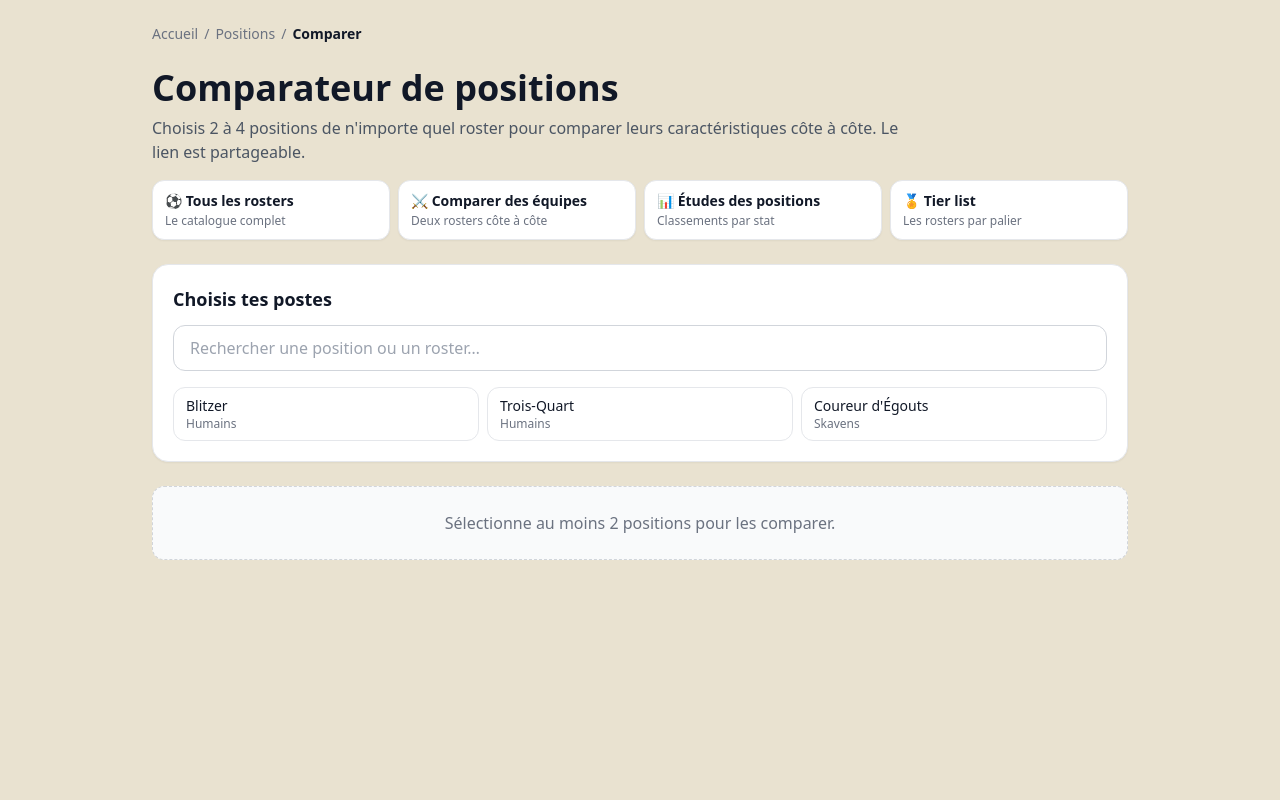
Test: PositionComparatorClient › permet de sélectionner des positions via le picker
Click the button with test id "picker-skaven_coureur_d_egouts" at (871, 406), box x1=801 y1=387 x2=1107 y2=441
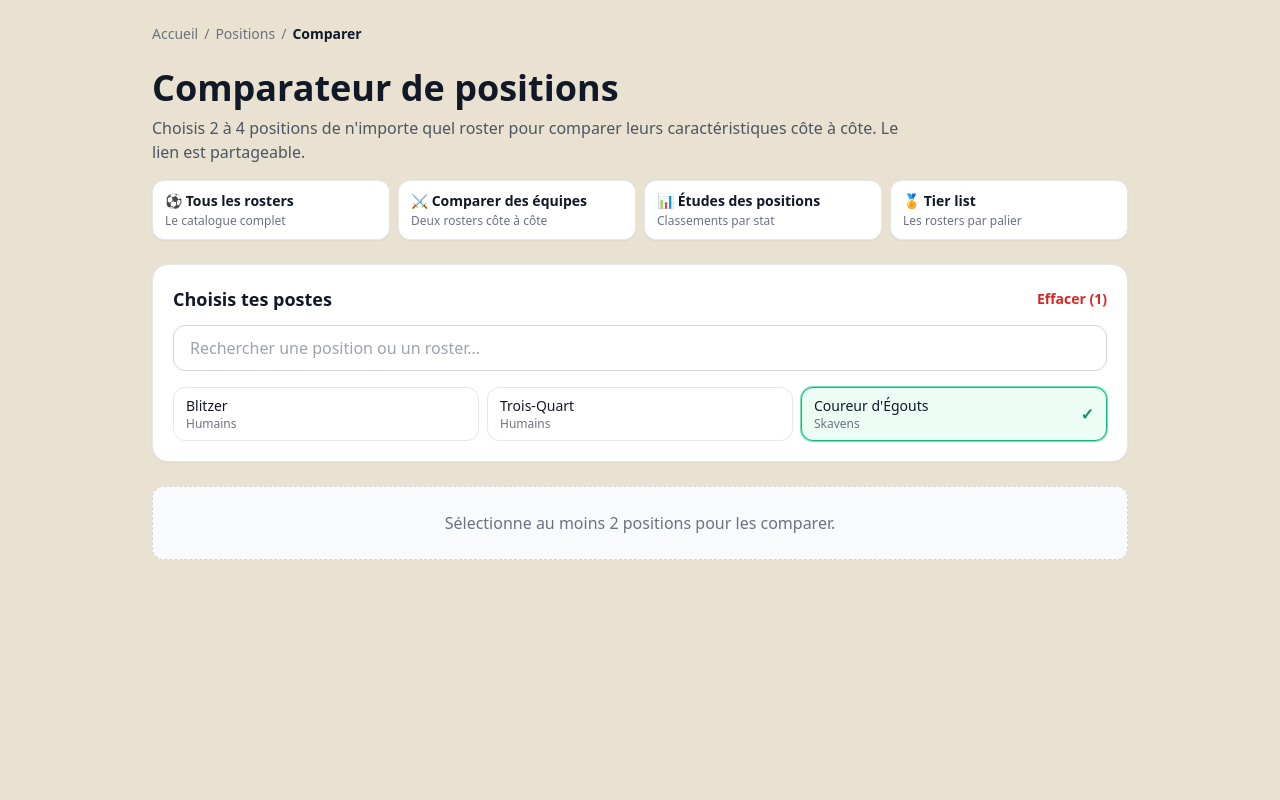
Click the button with test id "picker-human_blitzer" at (207, 406), box x1=173 y1=387 x2=479 y2=441
(page scrolled)
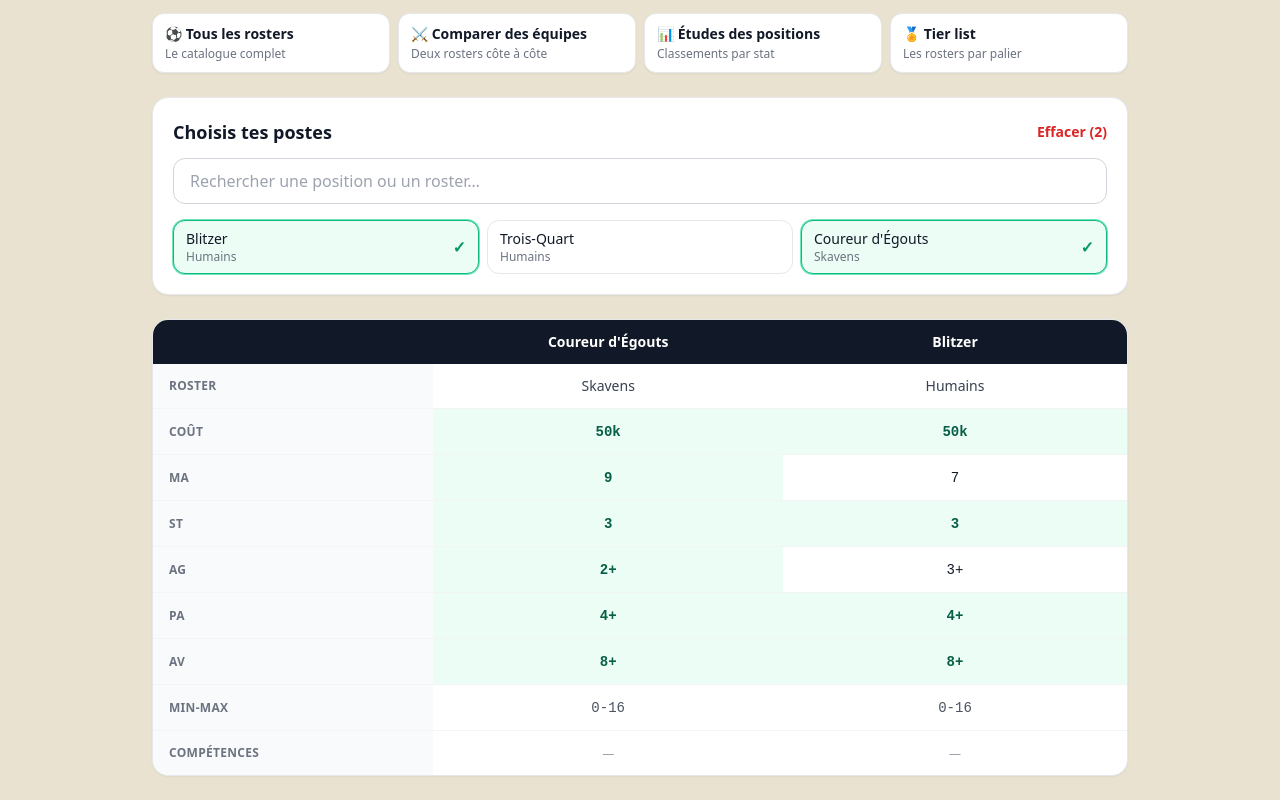
Expected: the element with test id "position-comparison" is shown, x1=152 y1=319 x2=1128 y2=776
